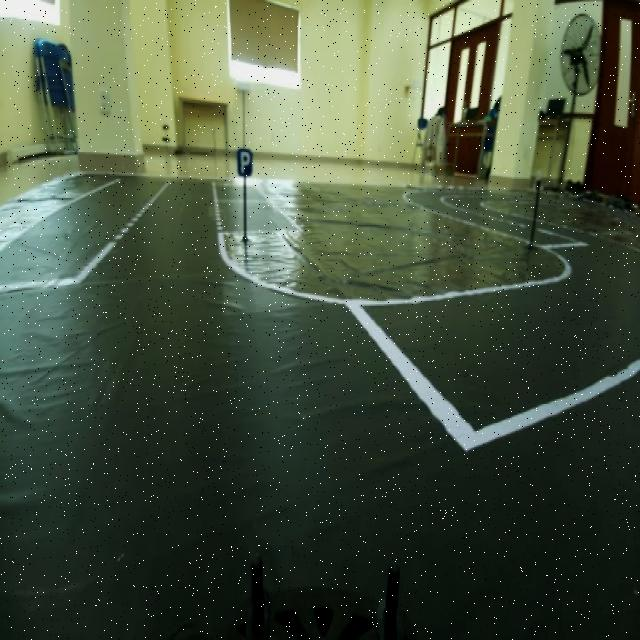parking: (230, 140, 256, 180)
